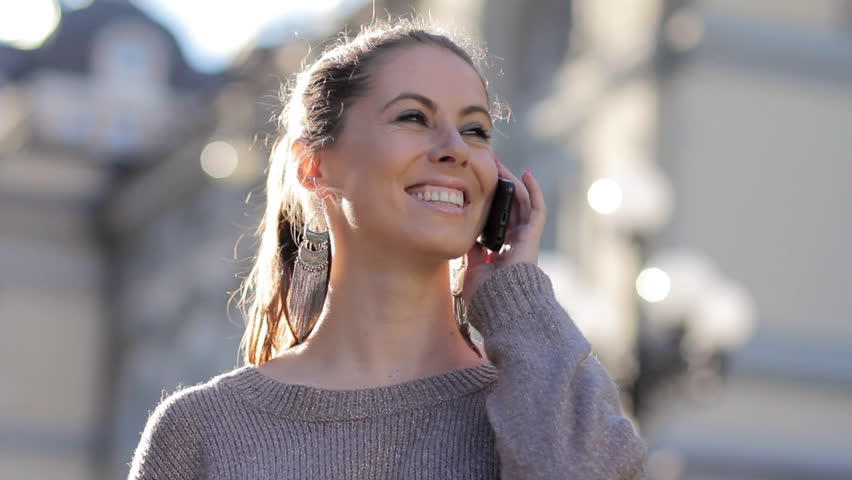phone: (473, 153, 549, 261)
talk: (360, 84, 557, 281)
